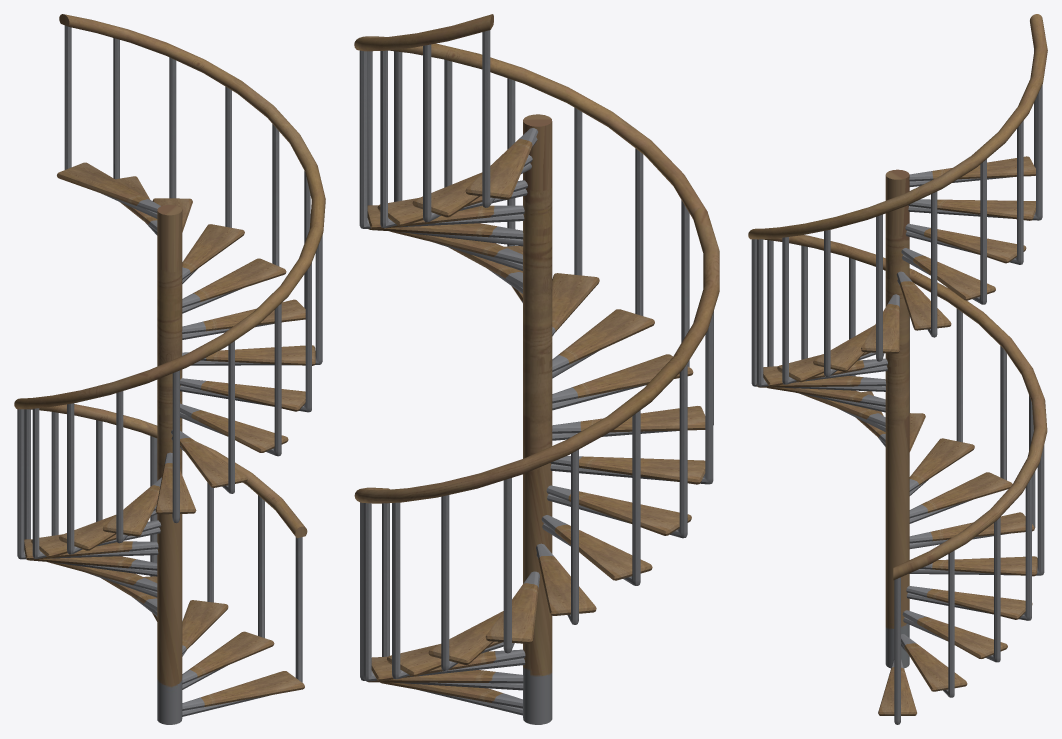
The picture shows the model from 3 angles, left to right: view 1: azimuth 30°, elevation 25°; view 2: azimuth 150°, elevation 25°; view 3: azimuth 270°, elevation 25°; orthographic projection. The views are drawn at different scales.
Visible parts, largest first — view 1: Stair__0; view 2: Stair__0; view 3: Stair__0.
Boxes of the visible parts, x1,y1,x2,y2 form: Stair__0: (14, 14, 325, 724); Stair__0: (354, 14, 719, 724); Stair__0: (748, 14, 1047, 724).
Bounding box in the file's own units: 2 × 4.69 × 2.01.
